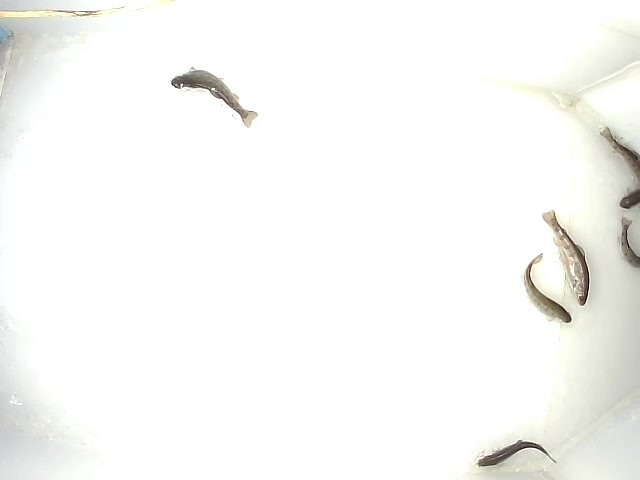fish: (170, 64, 259, 130), (540, 208, 590, 308), (522, 252, 573, 326), (477, 438, 558, 469)
